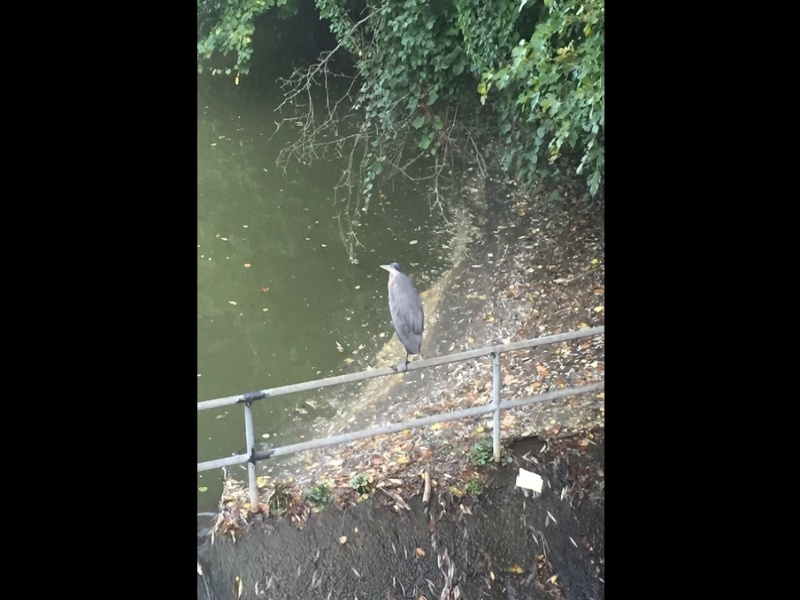heron: (379, 261, 428, 358)
